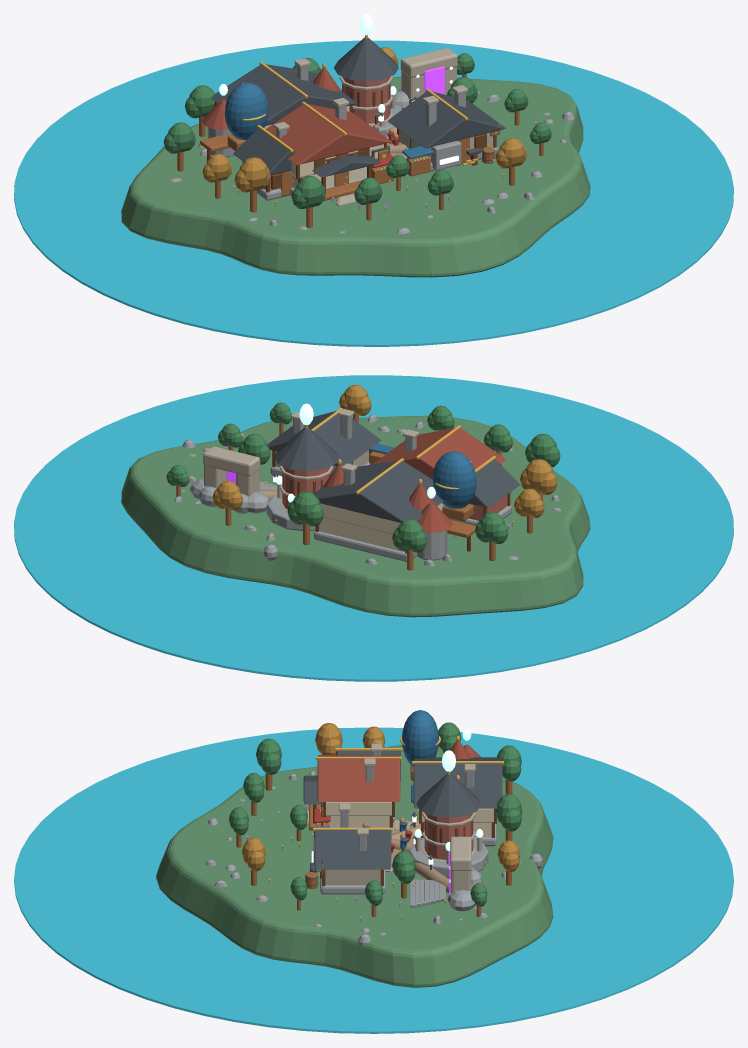
File: RF_TownDiorama_V2.fbx
The picture shows the model from 3 angles, top to bottom: view 1: azimuth 30°, elevation 25°; view 2: azimuth 150°, elevation 25°; view 3: azimuth 270°, elevation 25°; orthographic projection.
Visible parts, largest first — view 1: RF2_WaterPlane, RF2_Island, Inn_Roof, Smithy_Roof, Guild_Roof, Travel_Balloon, Uplink_Roof, InnWing_Roof, Uplink_Tower, Dungeon_Lintel, Inn_PorchRoof, Tree_00_CrownA (+4 smaller); view 2: RF2_WaterPlane, RF2_Island, Guild_Roof, Inn_Roof, Smithy_Roof, Travel_Balloon, Uplink_Roof, InnWing_Roof, Dungeon_Lintel, Guild_Lower, Guild_Upper, Guild_Foundation (+7 smaller); view 3: RF2_WaterPlane, RF2_Island, Inn_Roof, Smithy_Roof, Guild_Roof, Uplink_Roof, Travel_Balloon, Uplink_Tower, Smithy_Lower, Uplink_Base, Inn_Upper, Dungeon_Lintel (+1 smaller).
Part boxes in pixels (bbox=[...]): RF2_WaterPlane: bbox=[14, 40, 733, 346]; RF2_Island: bbox=[121, 76, 590, 277]; Inn_Roof: bbox=[265, 104, 391, 165]; Smithy_Roof: bbox=[387, 91, 505, 148]; Guild_Roof: bbox=[211, 64, 357, 125]; Travel_Balloon: bbox=[224, 82, 268, 139]; Uplink_Roof: bbox=[334, 37, 398, 81]; InnWing_Roof: bbox=[233, 128, 295, 175]; Uplink_Tower: bbox=[342, 76, 390, 123]; Dungeon_Lintel: bbox=[400, 48, 457, 77]; Inn_PorchRoof: bbox=[312, 154, 380, 177]; Tree_00_CrownA: bbox=[239, 157, 268, 190]; RF2_WaterPlane: bbox=[14, 375, 733, 681]; RF2_Island: bbox=[121, 415, 590, 617]; Guild_Roof: bbox=[314, 460, 443, 522]; Inn_Roof: bbox=[372, 428, 506, 479]; Smithy_Roof: bbox=[267, 411, 381, 465]; Travel_Balloon: bbox=[432, 451, 476, 508]; Uplink_Roof: bbox=[274, 427, 338, 471]; InnWing_Roof: bbox=[469, 459, 519, 507]; Dungeon_Lintel: bbox=[203, 446, 260, 476]; Guild_Lower: bbox=[319, 517, 405, 551]; Guild_Upper: bbox=[320, 503, 443, 534]; Guild_Foundation: bbox=[314, 531, 417, 561]; RF2_WaterPlane: bbox=[14, 727, 733, 1033]; RF2_Island: bbox=[156, 745, 553, 987]; Inn_Roof: bbox=[317, 755, 400, 801]; Smithy_Roof: bbox=[314, 830, 391, 869]; Guild_Roof: bbox=[413, 757, 502, 808]; Uplink_Roof: bbox=[416, 773, 481, 817]; Travel_Balloon: bbox=[402, 710, 438, 766]; Uplink_Tower: bbox=[424, 813, 473, 859]; Smithy_Lower: bbox=[325, 869, 380, 885]; Uplink_Base: bbox=[409, 839, 488, 877]; Inn_Upper: bbox=[326, 802, 391, 815]; Dungeon_Lintel: bbox=[450, 836, 471, 871].
Size of the model in its own units: 48 by 48 by 10.74.
